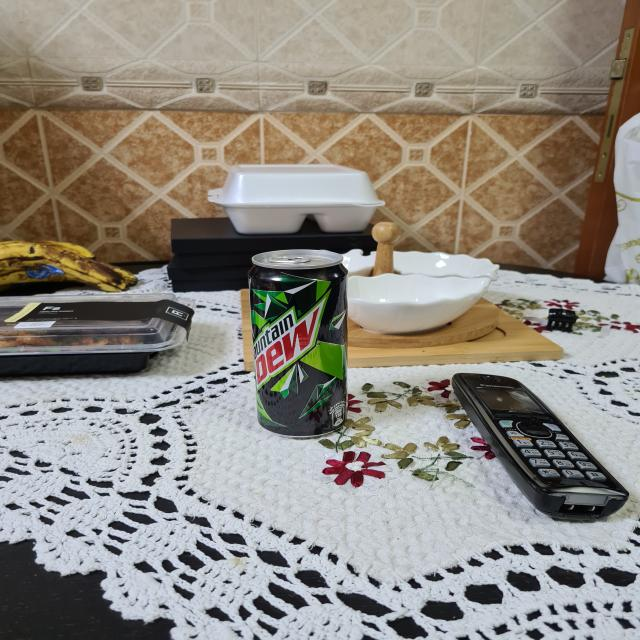non-organic waste: (248, 248, 354, 442)
